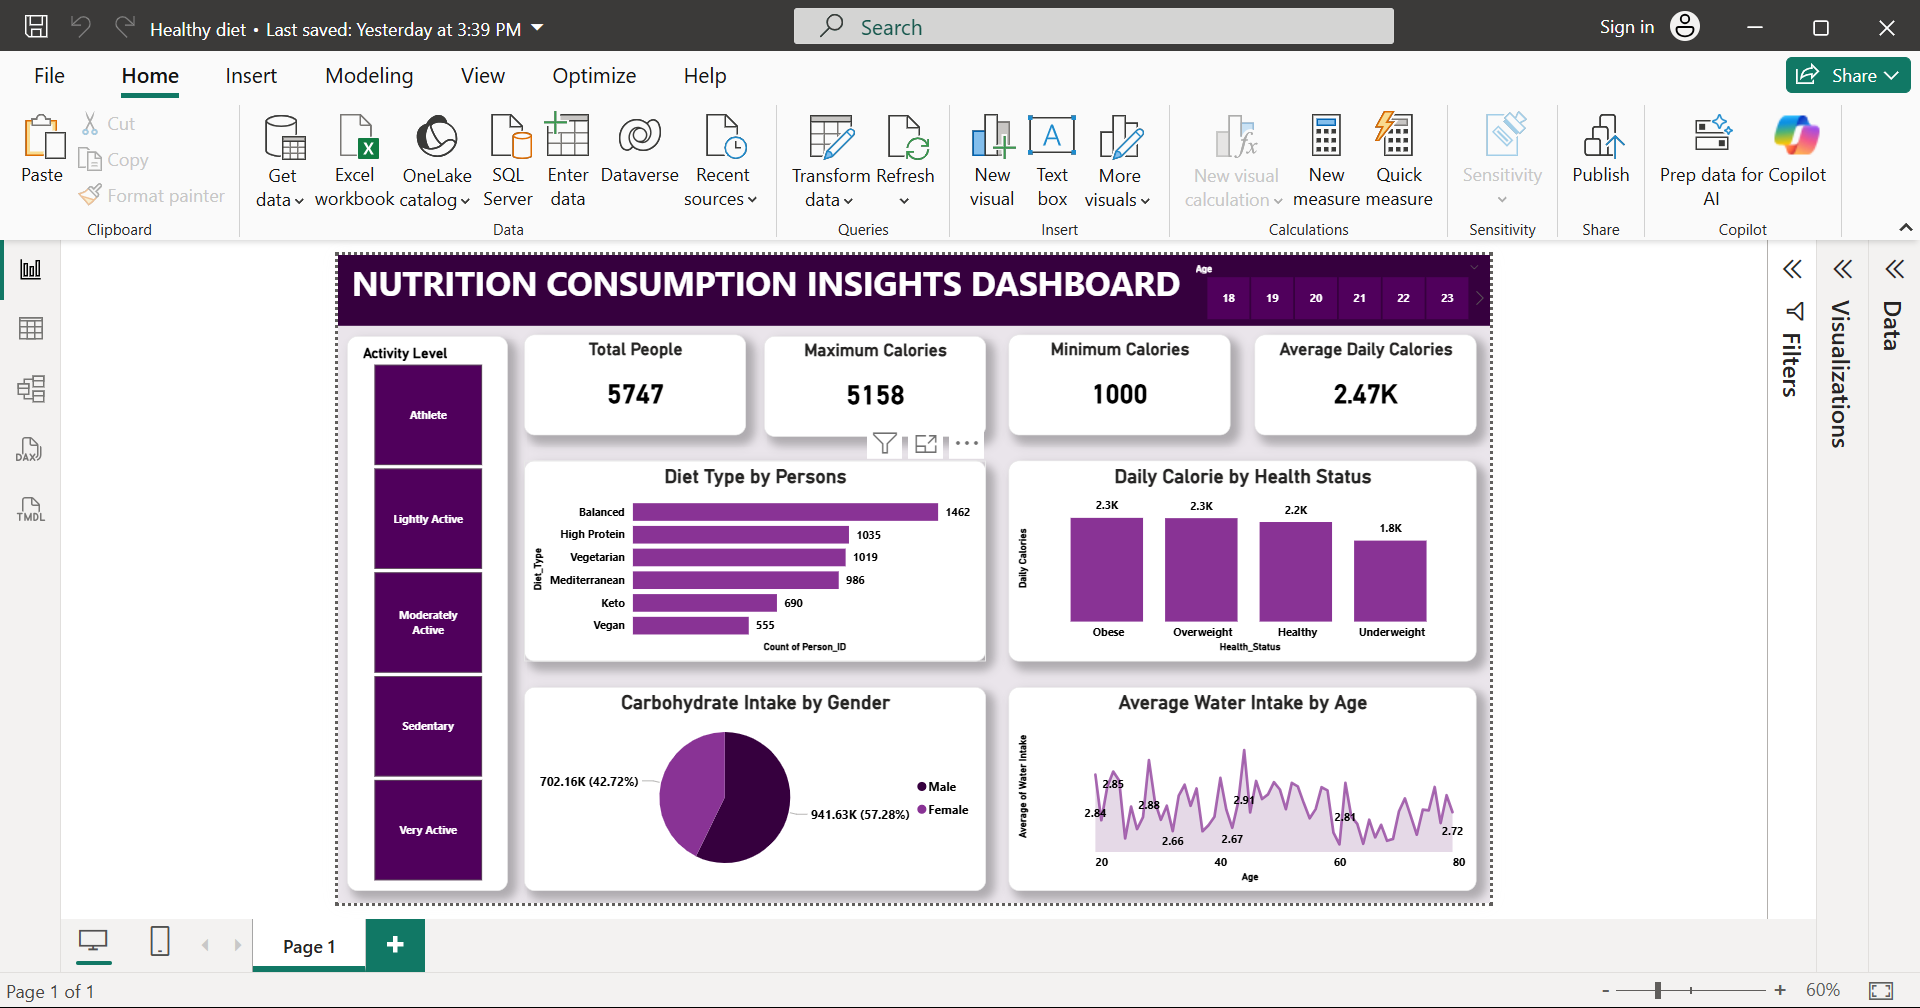

The dashboard page shown, as its layout file describes it:
{"tool":"powerbi","page":{"name":"Page 1","canvas":[1280,720],"ordinal":0},"visuals":[{"type":"textbox","box":[0,0,1280,78.3],"z":0},{"type":"card","title":"Average Daily Calories","fields":{"Values":["healthy_diet_calorie_intake.Avg Daily Calories"]},"box":[1018.3,88.3,246.7,111.7],"z":1000},{"type":"card","title":"Maximum Calories ","fields":{"Values":["healthy_diet_calorie_intake.Max Calories"]},"box":[473.3,90,246.7,111.7],"z":2000},{"type":"card","title":"Minimum Calories ","fields":{"Values":["healthy_diet_calorie_intake.Min Calories"]},"box":[745,88.3,246.7,111.7],"z":3000},{"type":"card","title":"Total People","fields":{"Values":["healthy_diet_calorie_intake.Total People"]},"box":[206.7,88.3,246.7,111.7],"z":4000},{"type":"clusteredBarChart","title":"Diet Type by Persons ","fields":{"Category":["healthy_diet_calorie_intake.Diet_Type"],"Y":["Count(healthy_diet_calorie_intake.Person_ID)"]},"box":[206.7,228.3,513.3,223.3],"z":5000},{"type":"clusteredColumnChart","title":"Daily Calorie by Health Status","fields":{"Category":["healthy_diet_calorie_intake.Health_Status"],"Y":["Avg(healthy_diet_calorie_intake.Daily_Calorie_Requirement)"]},"box":[745,228.3,520,223.3],"z":6000},{"type":"pieChart","title":"Carbohydrate Intake by Gender","fields":{"Category":["healthy_diet_calorie_intake.Gender"],"Y":["Sum(healthy_diet_calorie_intake.Carbohydrate_Intake_g)"]},"box":[206.7,480,513.3,226.7],"z":7000},{"type":"stackedAreaChart","title":"Average Water Intake by Age","fields":{"Y":["Avg(healthy_diet_calorie_intake.Water_Intake_Liters)"],"Category":["healthy_diet_calorie_intake.Age"]},"box":[745,480,520,226.7],"z":8000},{"type":"slicer","fields":{"Values":["healthy_diet_calorie_intake.Activity_Level"]},"box":[10,90,178.3,616.7],"z":9000},{"type":"slicer","fields":{"Values":["healthy_diet_calorie_intake.Age"]},"box":[940,3.3,340,75],"z":10000}]}

Visuals, with their boxes on the page's 1280x720 design canvas (x1, y1, x2, y2). These are canvas units, not pixel positions in the 1920x1008 screenshot, which may show the page scaled, cropped or inside an application window:
textbox: 0,0,1280,78
"Average Daily Calories" card: 1018,88,1265,200
"Maximum Calories " card: 473,90,720,202
"Minimum Calories " card: 745,88,992,200
"Total People" card: 207,88,453,200
"Diet Type by Persons " clusteredBarChart: 207,228,720,452
"Daily Calorie by Health Status" clusteredColumnChart: 745,228,1265,452
"Carbohydrate Intake by Gender" pieChart: 207,480,720,707
"Average Water Intake by Age" stackedAreaChart: 745,480,1265,707
slicer - healthy_diet_calorie_intake.Activity_Level: 10,90,188,707
slicer - healthy_diet_calorie_intake.Age: 940,3,1280,78
